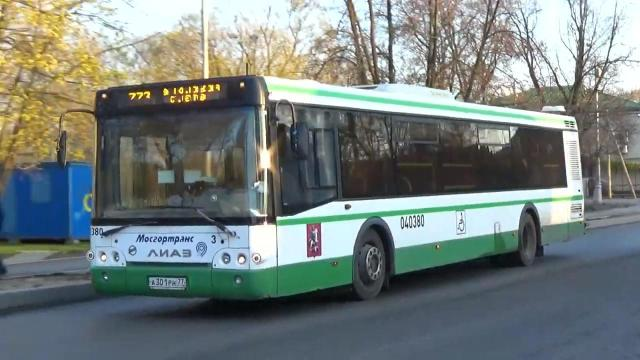bus: (81, 64, 598, 315)
